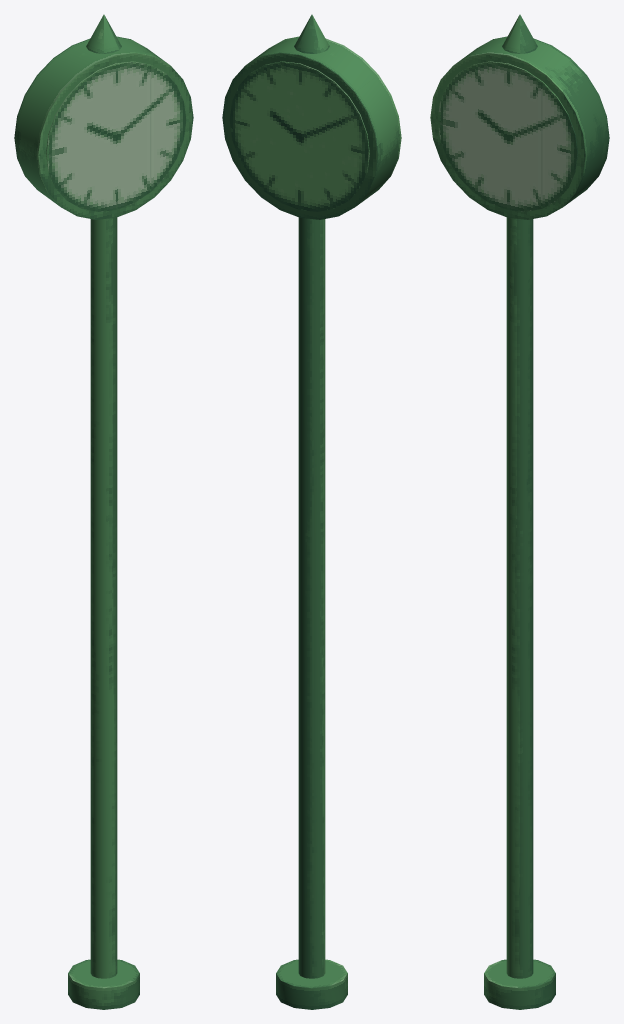
Rendered from park_clock_own.glb.
The picture shows the model from 3 angles, left to right: view 1: azimuth 30°, elevation 25°; view 2: azimuth 150°, elevation 25°; view 3: azimuth 330°, elevation 25°; orthographic projection.
Visible parts, largest first — view 1: mesh; view 2: mesh; view 3: mesh.
Part boxes in pixels (x1,y1,x2,y2): mesh: (14, 14, 193, 1009); mesh: (222, 14, 401, 1009); mesh: (430, 14, 609, 1009).
Bounding box in the file's own units: 0.6001 × 3.62 × 0.24.
Materials: 1 (1 with a texture image).
